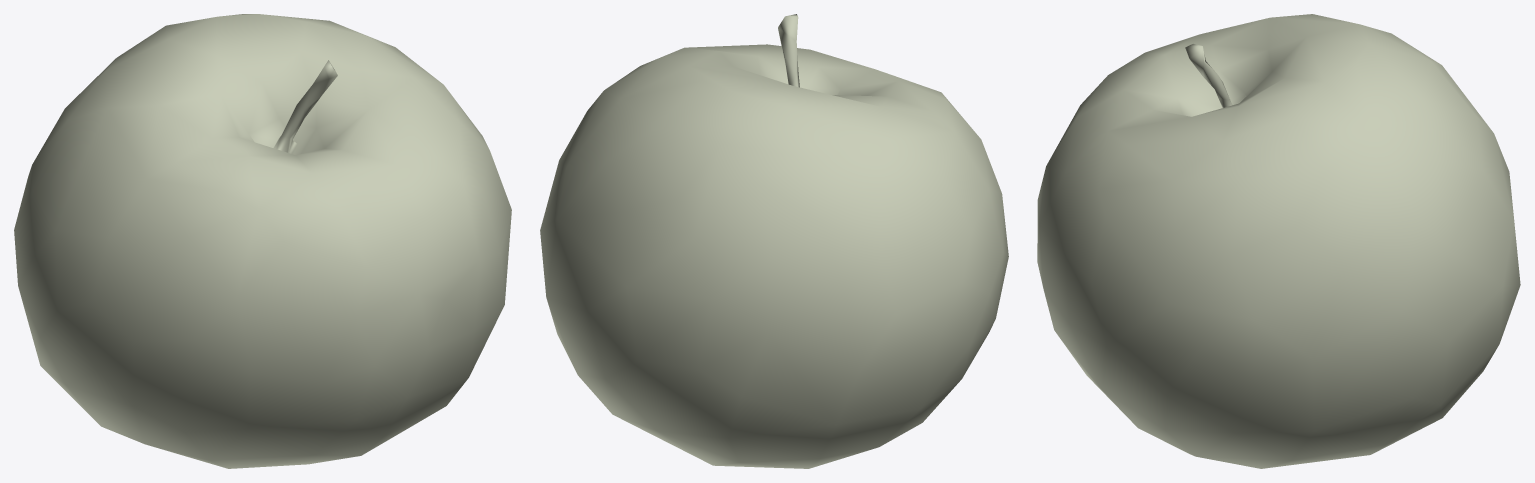
File: RottenApple.fbx
3 views of the same model, side by side, from view 1: azimuth 30°, elevation 25°; view 2: azimuth 150°, elevation 25°; view 3: azimuth 270°, elevation 25° (orthographic). The views are drawn at different scales.
Visible parts, largest first — view 1: food_apple_01; view 2: food_apple_01; view 3: food_apple_01.
Boxes of the visible parts, <box> form: food_apple_01: <box>14,14,511,468</box>; food_apple_01: <box>540,14,1008,468</box>; food_apple_01: <box>1037,14,1520,468</box>.
Size of the model in its own units: 9.75 by 8.55 by 9.57.
